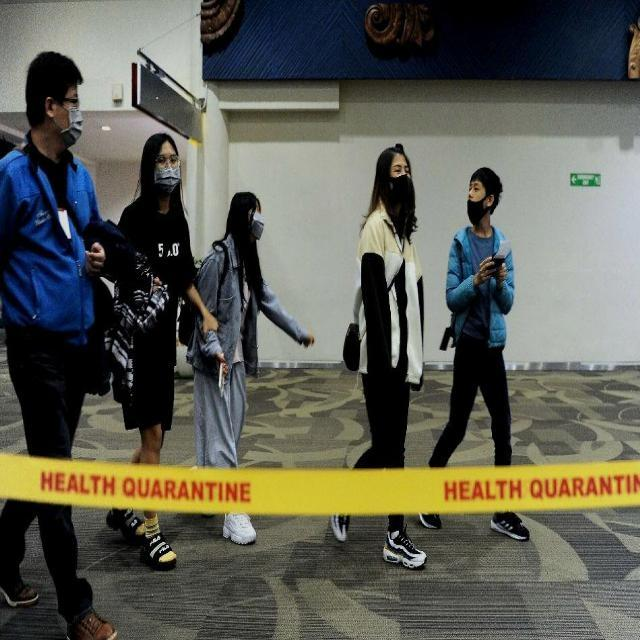hairnet: (466, 188, 499, 229)
